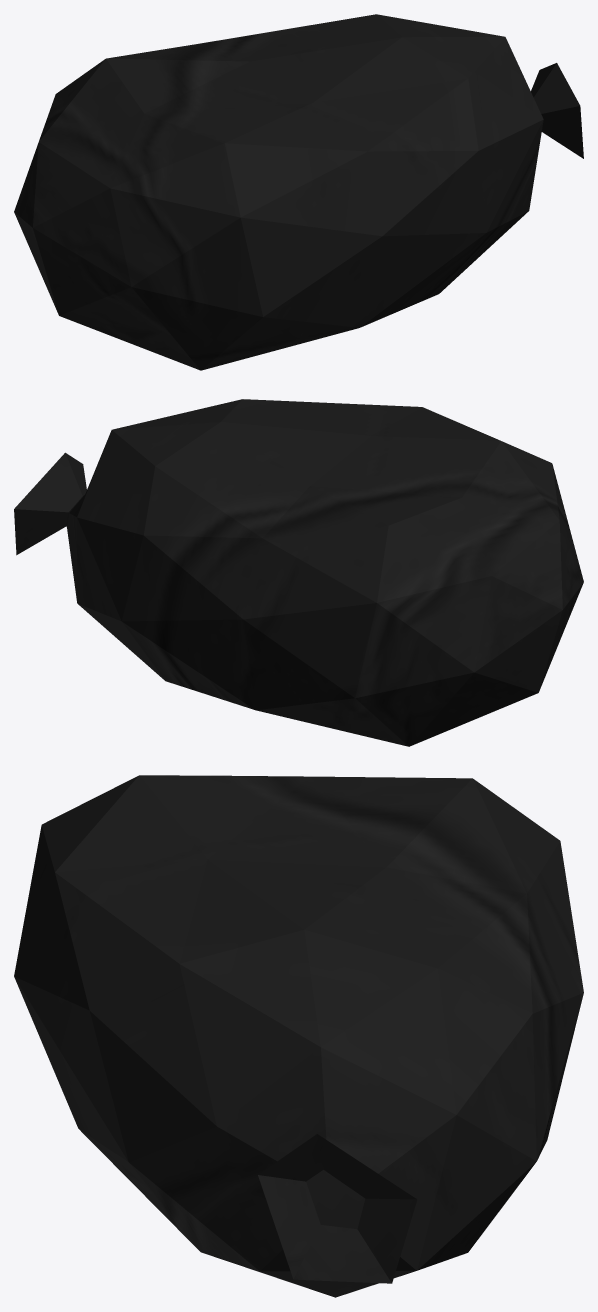
File: trash3.fbx
3 renders of one model, top to bottom at view 1: azimuth 30°, elevation 25°; view 2: azimuth 150°, elevation 25°; view 3: azimuth 270°, elevation 25°, orthographic. The views are drawn at different scales.
Parts seen in each view (by area): view 1: garbage-bag-flat; view 2: garbage-bag-flat; view 3: garbage-bag-flat.
Part boxes in pixels (<box>): garbage-bag-flat: <box>14,14,583,370</box>; garbage-bag-flat: <box>14,399,583,746</box>; garbage-bag-flat: <box>14,775,583,1297</box>.
Size of the model in its own units: 79.67 by 34.91 by 51.07.
